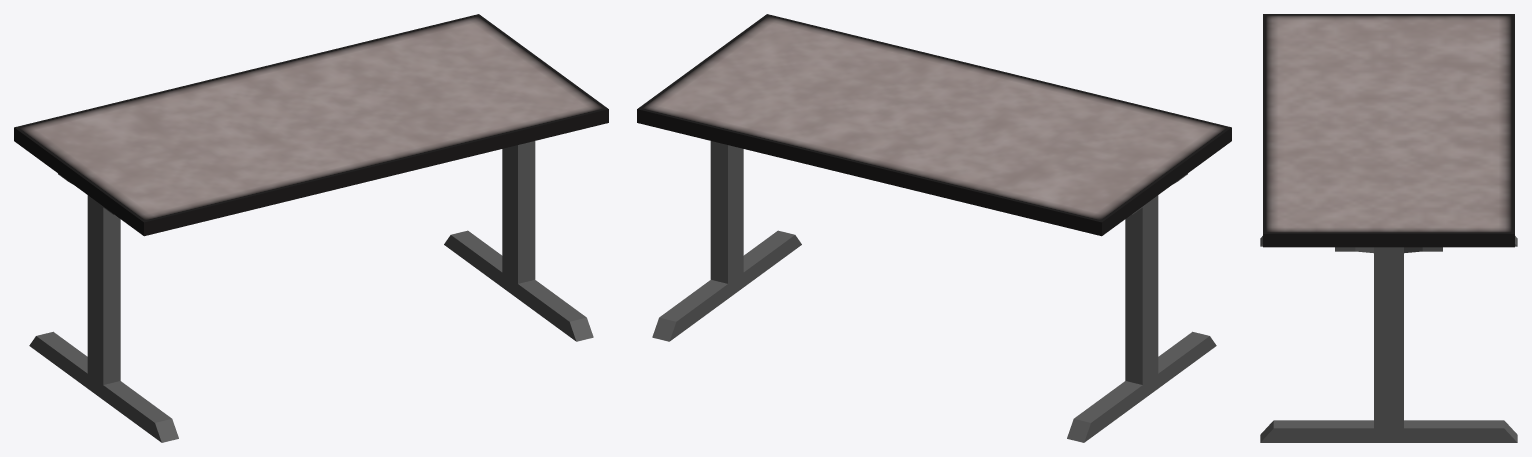
File: BoothTable.fbx
3 renders of one model, left to right at view 1: azimuth 30°, elevation 25°; view 2: azimuth 150°, elevation 25°; view 3: azimuth 270°, elevation 25°, orthographic. The views are drawn at different scales.
Visible parts, largest first — view 1: Booth Table.002; view 2: Booth Table.002; view 3: Booth Table.002.
Boxes of the visible parts, x1,y1,x2,y2 form: Booth Table.002: (14, 14, 608, 442); Booth Table.002: (637, 14, 1231, 442); Booth Table.002: (1260, 14, 1517, 442).
Bounding box in the file's own units: 239 × 110 × 118.
